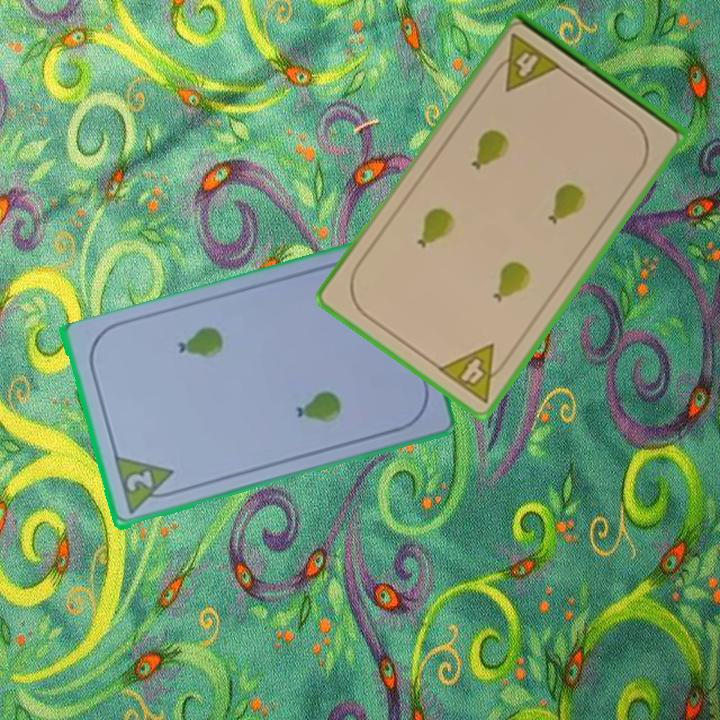2p: (110, 454, 181, 519)
4p: (434, 340, 514, 406), (487, 30, 565, 95)
